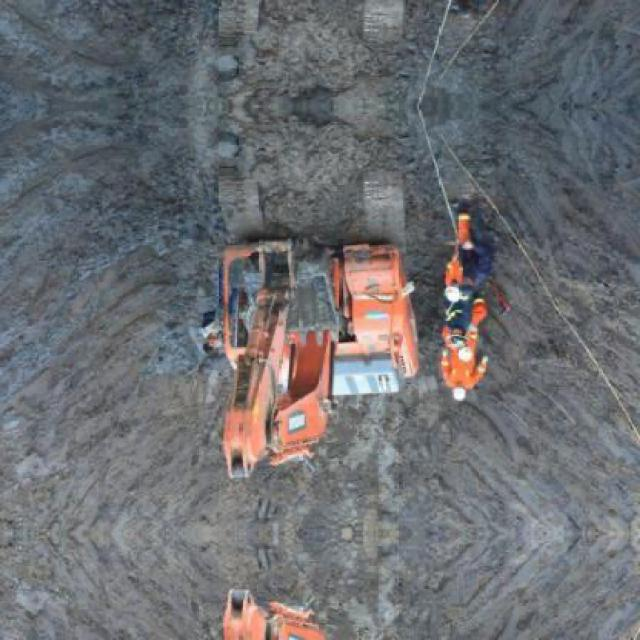con casco: (446, 288, 503, 316), (456, 340, 489, 381), (441, 390, 480, 418)
